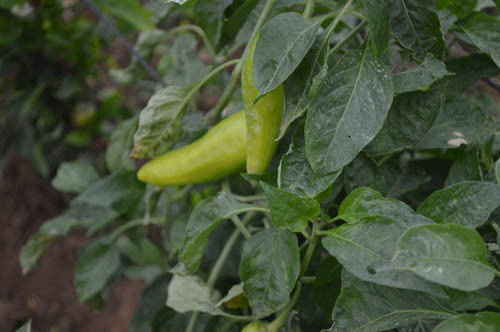ChiliPepper: (134, 111, 249, 195), (236, 48, 287, 182)
